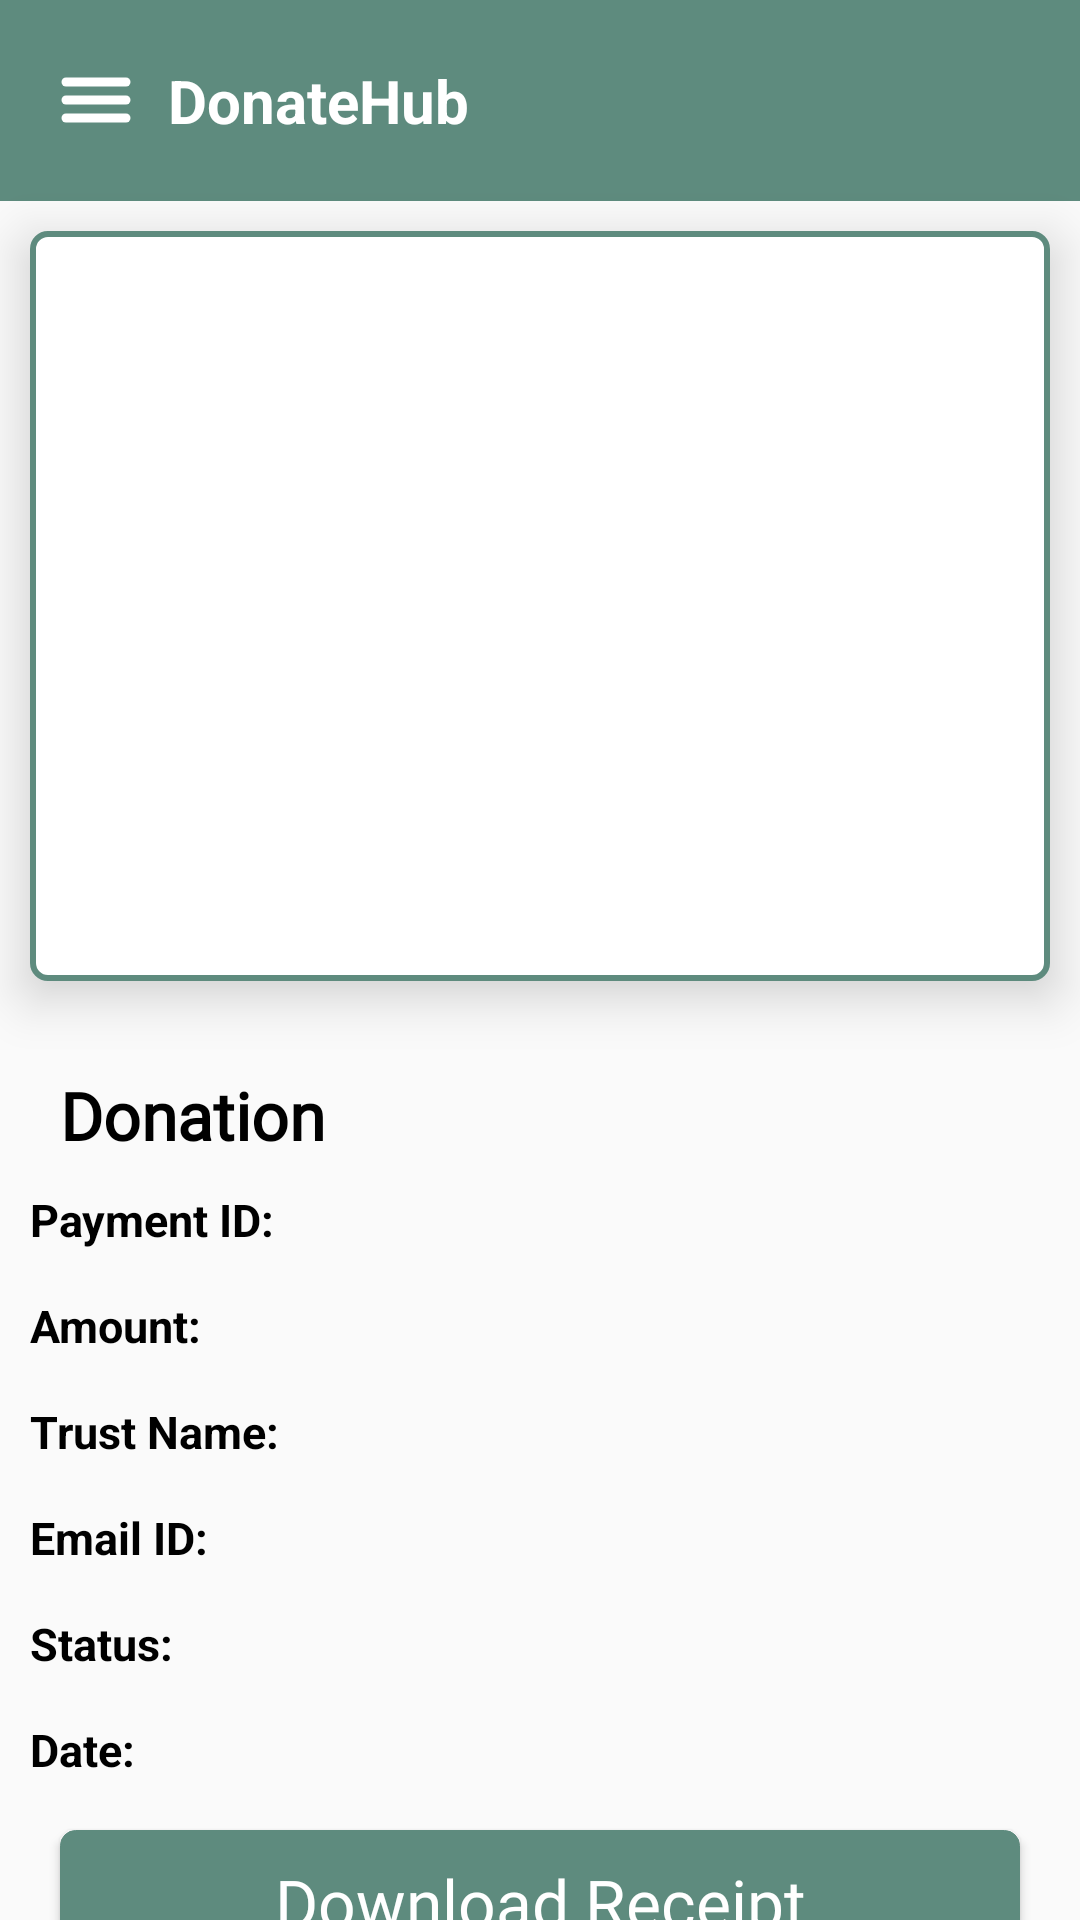

Named icons in this screenshot (1080*1920) and their centers, [x,y]:
menu: [96,100]
